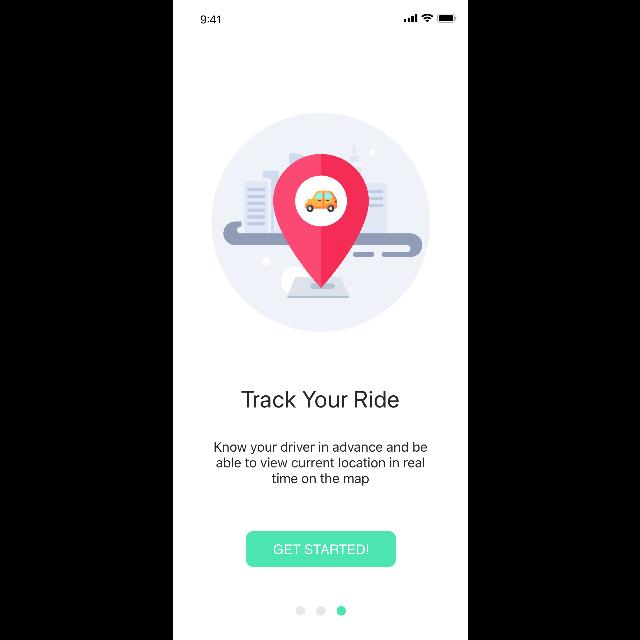image: (210, 112, 430, 332)
pageindicator: (294, 606, 346, 616)
text: (214, 441, 426, 485), (242, 390, 398, 408)
textbutton: (245, 532, 395, 566)
uppertaskbar: (200, 14, 456, 24)
